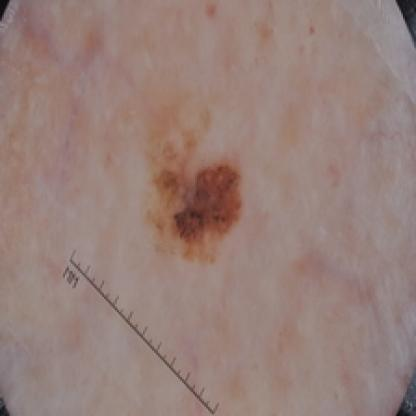Skin_Cancer-Malignant: (151, 155, 244, 267)
